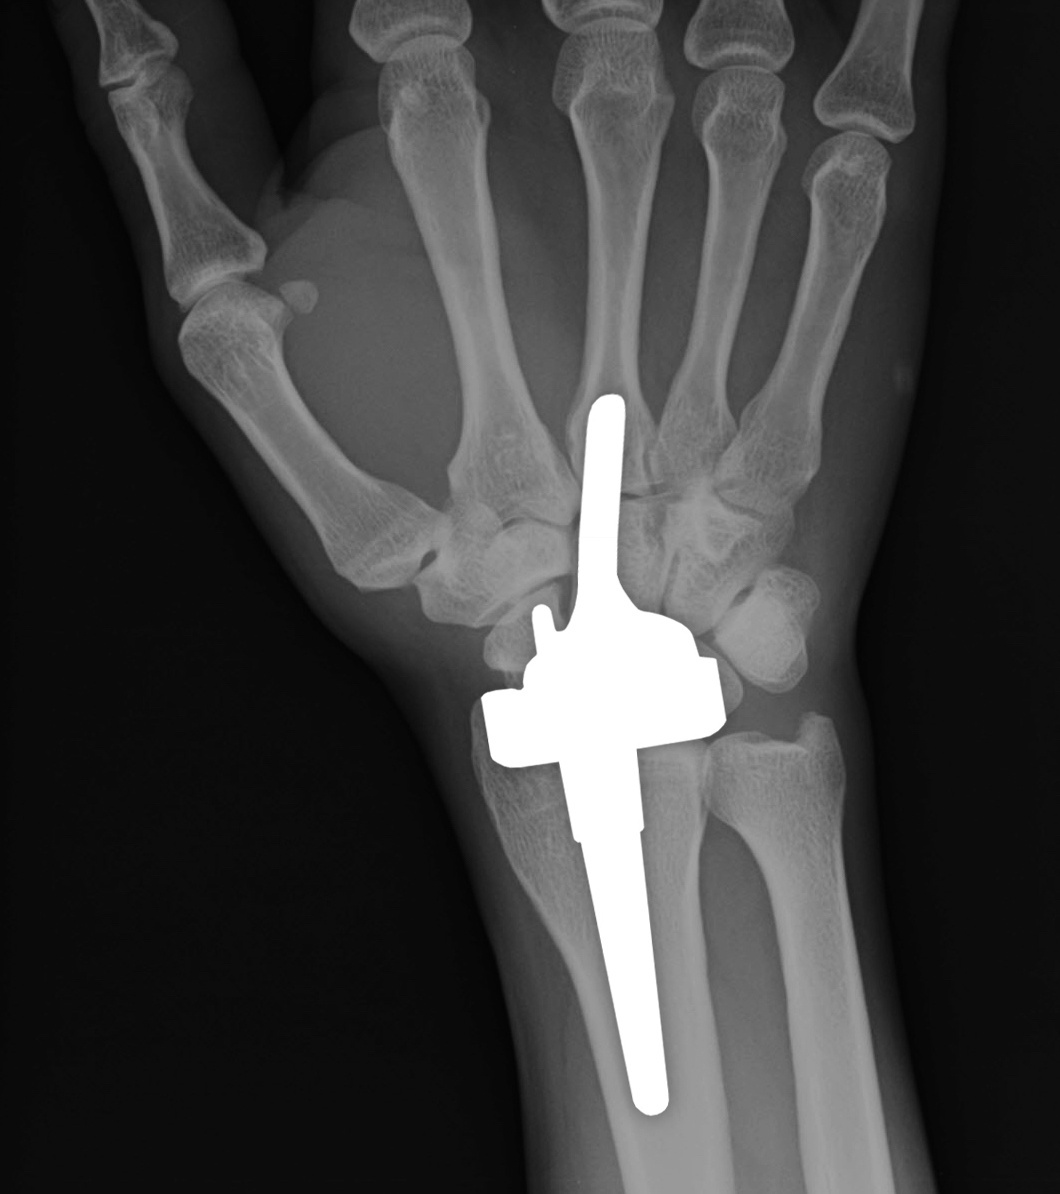Wrist-Biax-DePuuy: (444, 380, 742, 1123)
